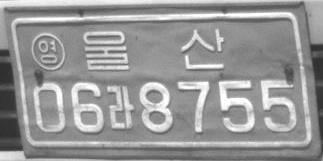0: (31, 81, 66, 133)
5: (217, 78, 256, 133), (260, 78, 297, 133)
6: (70, 81, 104, 133)
7: (176, 80, 210, 133)
8: (138, 81, 173, 133)
라: (105, 85, 135, 129)
영: (30, 31, 66, 71)
울산_D: (82, 28, 224, 70)
